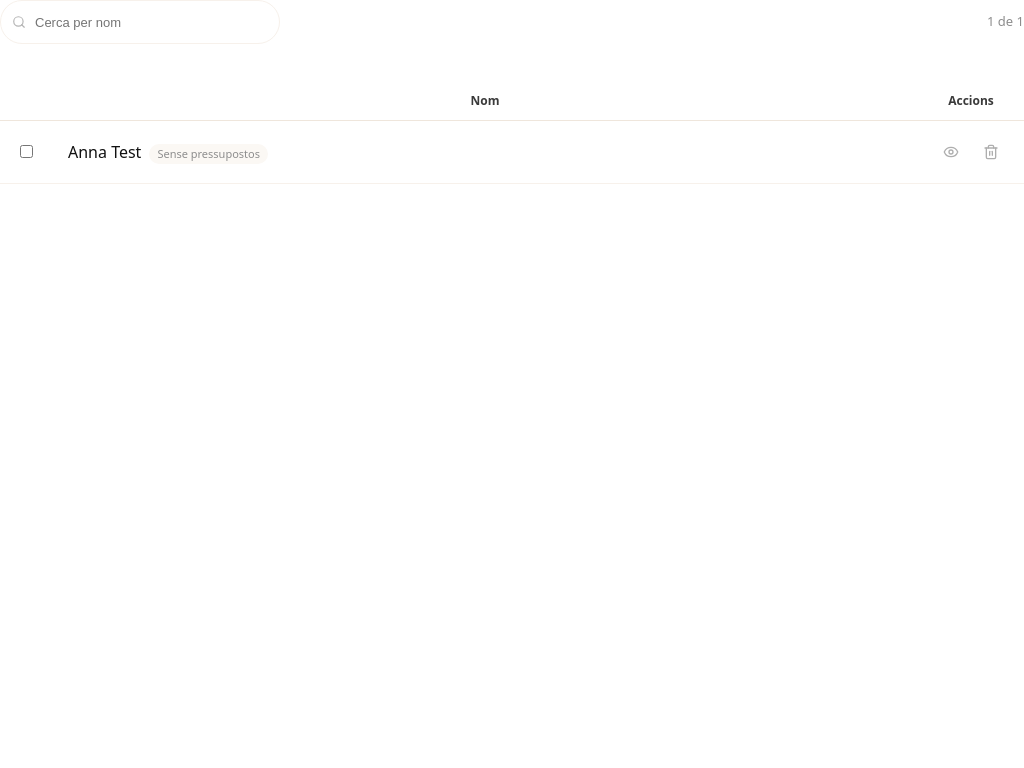
ContactsView › opens the confirmation dialog when delete is clicked
Click the button named "Eliminar contacte". click: (991, 152)
box: [974,135,1008,169]
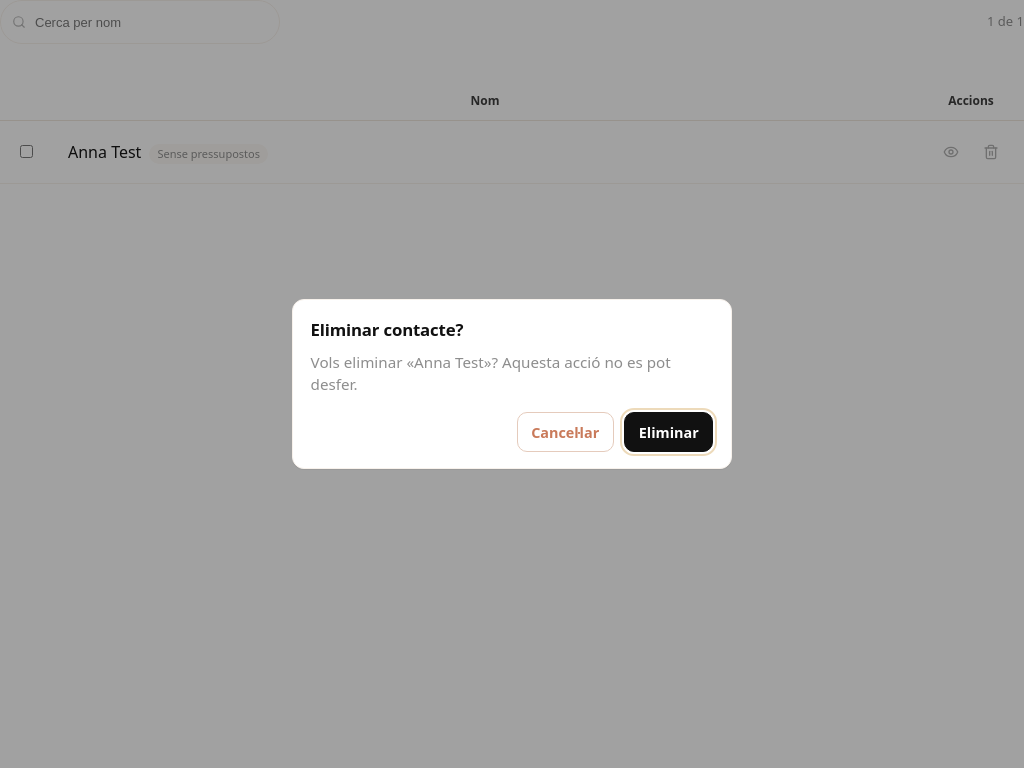
expect the dialog is shown: met
expect the heading "Eliminar contacte?" is shown: met, box [311,318,463,341]
